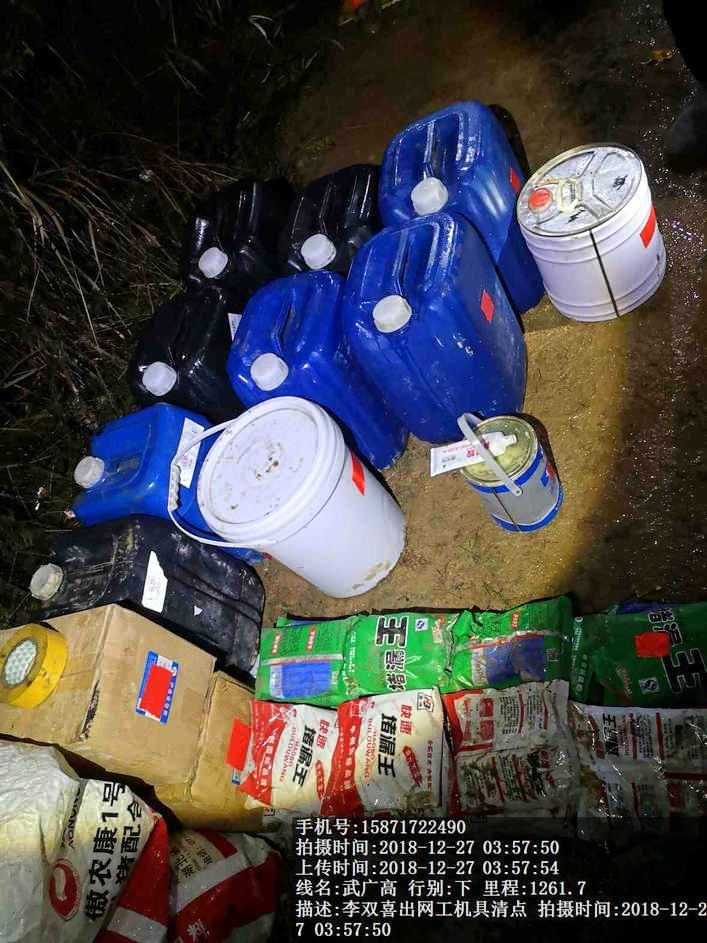SLT: (344, 239, 536, 419), (377, 104, 518, 237), (226, 267, 353, 408), (16, 532, 177, 605), (127, 306, 224, 412), (276, 163, 371, 260)
